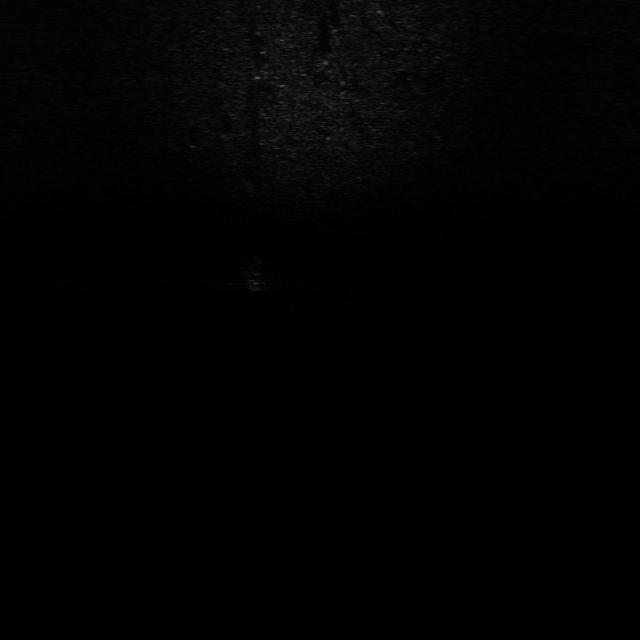human body: (242, 251, 274, 303)
